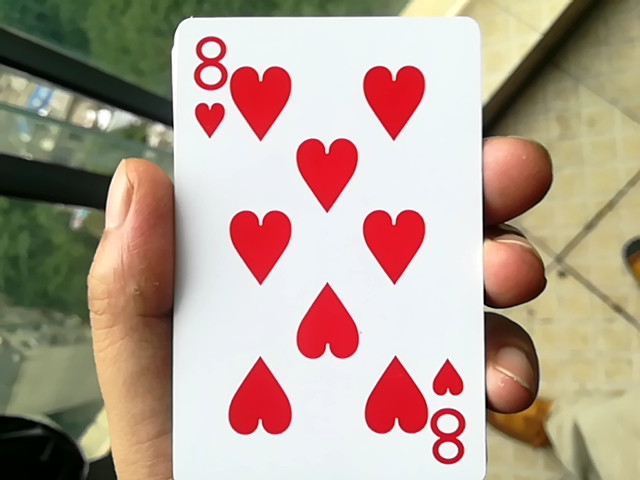hx 8: (147, 5, 487, 471)
